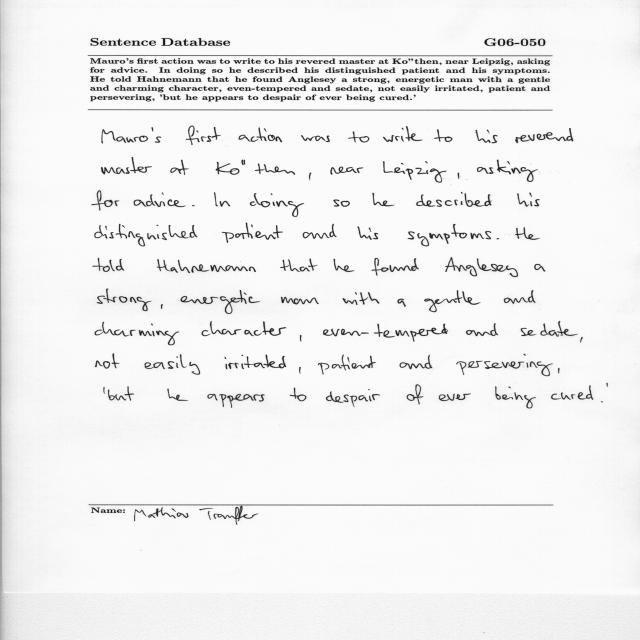word: (95, 224, 198, 247), (323, 324, 448, 342), (456, 354, 553, 376), (95, 322, 179, 345), (180, 290, 260, 314), (408, 224, 491, 246), (445, 257, 518, 277), (383, 161, 446, 183), (157, 259, 256, 273), (477, 160, 538, 182), (250, 193, 304, 217), (202, 321, 286, 336), (424, 290, 481, 312), (222, 223, 283, 243), (97, 289, 152, 311), (216, 160, 295, 175), (144, 354, 200, 375), (318, 355, 376, 375), (416, 192, 492, 207), (102, 127, 161, 144), (326, 389, 380, 407), (225, 355, 287, 370), (521, 321, 578, 337), (495, 387, 536, 409), (515, 128, 573, 143), (102, 158, 152, 175), (372, 258, 419, 276), (207, 394, 265, 408), (134, 193, 186, 208), (186, 126, 221, 145), (239, 128, 282, 143), (551, 385, 593, 400), (383, 126, 422, 142), (92, 191, 119, 211), (280, 258, 318, 272), (303, 224, 337, 239), (343, 292, 380, 305), (400, 355, 433, 369), (93, 258, 125, 272), (504, 290, 536, 304), (466, 324, 498, 337), (108, 386, 134, 401), (96, 354, 120, 369), (517, 192, 540, 207), (407, 385, 424, 405), (515, 227, 540, 240), (281, 297, 319, 305), (372, 193, 395, 206), (358, 226, 379, 240), (476, 130, 498, 143), (170, 160, 189, 175), (330, 167, 363, 175), (334, 259, 354, 272), (439, 393, 471, 401), (167, 389, 188, 401), (434, 129, 453, 142), (214, 192, 230, 207), (348, 132, 369, 143), (290, 388, 307, 401), (301, 135, 330, 142), (333, 200, 350, 207), (534, 264, 545, 272), (397, 299, 406, 307), (580, 337, 583, 343), (309, 173, 311, 181), (300, 335, 302, 342), (299, 367, 301, 374), (161, 304, 163, 309), (606, 383, 608, 387), (104, 387, 105, 394), (458, 173, 459, 179), (496, 238, 499, 240), (558, 368, 559, 373), (601, 401, 603, 403), (192, 205, 195, 206)
